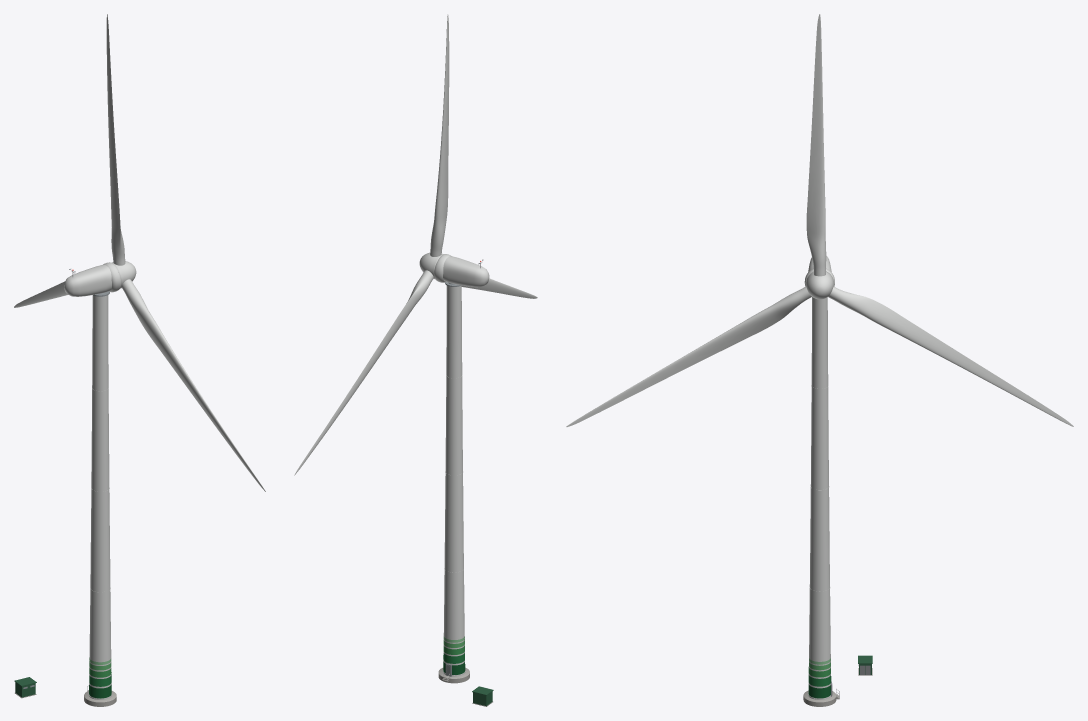
Rendered from ace-turbine.glb.
3 views of the same model, side by side, from view 1: azimuth 30°, elevation 25°; view 2: azimuth 150°, elevation 25°; view 3: azimuth 270°, elevation 25° (orthographic). The views are drawn at different scales.
Visible parts, largest first — view 1: ACE_Tower, ACE_Blade_2, ACE_Blade_1, ACE_NacelleShell, ACE_TowerBands, ACE_Blade_3; view 2: ACE_Tower, ACE_Blade_1, ACE_Blade_3, ACE_NacelleShell, ACE_TowerBands, ACE_Blade_2; view 3: ACE_Tower, ACE_Blade_3, ACE_Blade_1, ACE_Blade_2, ACE_TowerBands.
Part boxes in pixels (<box>): ACE_Tower: <box>88,295,111,699</box>; ACE_Blade_2: <box>121,279,265,491</box>; ACE_Blade_1: <box>106,14,125,265</box>; ACE_NacelleShell: <box>64,262,121,296</box>; ACE_TowerBands: <box>89,657,111,698</box>; ACE_Blade_3: <box>14,281,68,307</box>; ACE_Tower: <box>443,285,465,676</box>; ACE_Blade_1: <box>430,14,449,256</box>; ACE_Blade_3: <box>294,270,433,475</box>; ACE_NacelleShell: <box>434,254,489,287</box>; ACE_TowerBands: <box>443,636,465,674</box>; ACE_Blade_2: <box>461,278,537,298</box>; ACE_Tower: <box>808,297,831,699</box>; ACE_Blade_3: <box>828,286,1073,426</box>; ACE_Blade_1: <box>806,14,826,276</box>; ACE_Blade_2: <box>566,286,811,426</box>; ACE_TowerBands: <box>808,658,831,698</box>.
Bounding box in the file's own units: 22.88 × 150 × 100.
